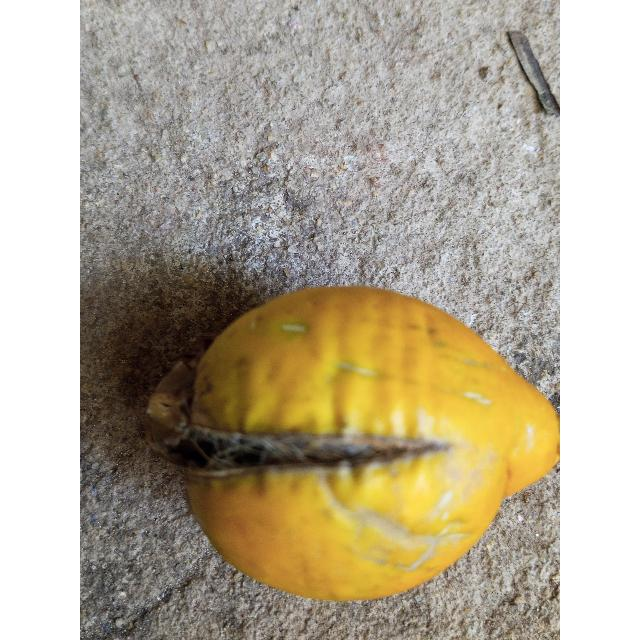damaged: (146, 286, 560, 606)
